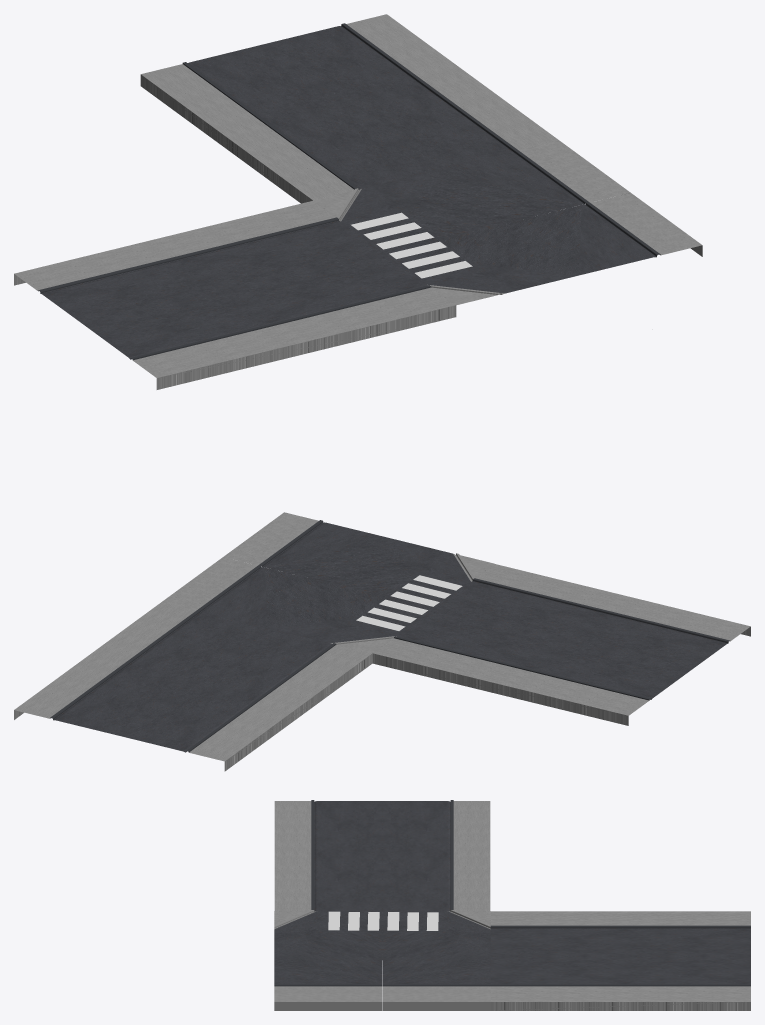
File: TJunctionLeftArm.dae
3 renders of one model, top to bottom at view 1: azimuth 30°, elevation 25°; view 2: azimuth 150°, elevation 25°; view 3: azimuth 270°, elevation 25°, orthographic. The views are drawn at different scales.
Visible parts, largest first — view 1: RoadStraight.002, Plane.001; view 2: RoadStraight.002, Plane.001; view 3: RoadStraight.002, Plane.001.
Boxes of the visible parts, x1,y1,x2,y2 form: RoadStraight.002: (14, 14, 702, 389); Plane.001: (351, 212, 472, 278); RoadStraight.002: (14, 512, 750, 771); Plane.001: (356, 575, 462, 630); RoadStraight.002: (274, 800, 750, 1010); Plane.001: (328, 911, 438, 930).
Bounding box in the file's own units: 45.61 × 70.68 × 1.05.
Materials: 4 (3 with a texture image).
